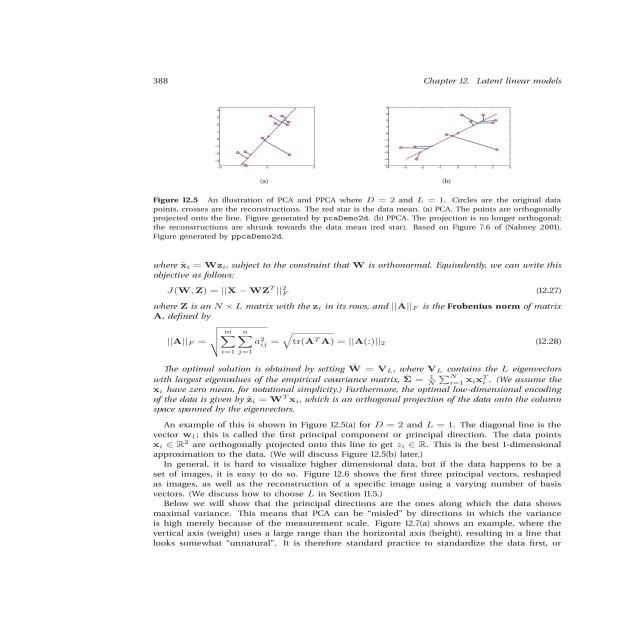diagram: (91, 52, 588, 248)
